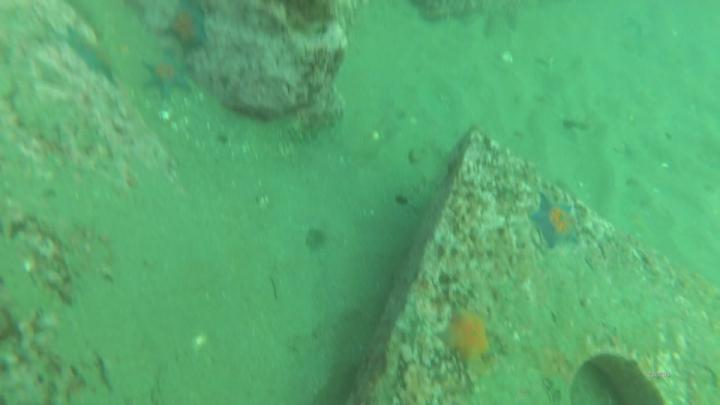holothurian: (284, 107, 339, 145)
starfish: (434, 306, 495, 367), (61, 26, 118, 84), (527, 192, 582, 251), (140, 52, 191, 99), (169, 9, 210, 51)
